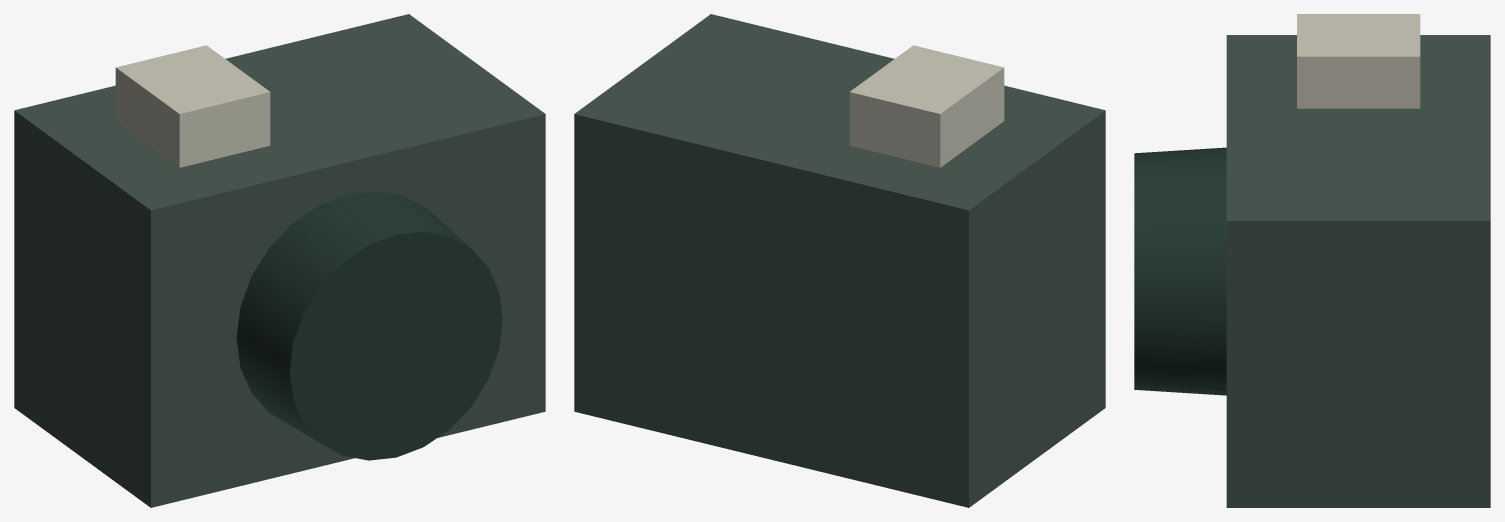
Rendered from travel-camera.gltf.
3 renders of one model, left to right at view 1: azimuth 30°, elevation 25°; view 2: azimuth 150°, elevation 25°; view 3: azimuth 270°, elevation 25°, orthographic. The views are drawn at different scales.
Visible parts, largest first — view 1: Camera body, Camera lens, Camera top; view 2: Camera body, Camera top; view 3: Camera body, Camera lens, Camera top.
Part boxes in pixels (x1,y1,x2,y2): Camera body: (14, 14, 545, 507); Camera lens: (236, 191, 502, 460); Camera top: (115, 45, 270, 167); Camera body: (574, 14, 1105, 507); Camera top: (849, 45, 1004, 167); Camera body: (1226, 35, 1490, 507); Camera lens: (1134, 147, 1226, 395); Camera top: (1297, 14, 1420, 108).
Bounding box in the file's own units: 1 × 0.85 × 0.81.
